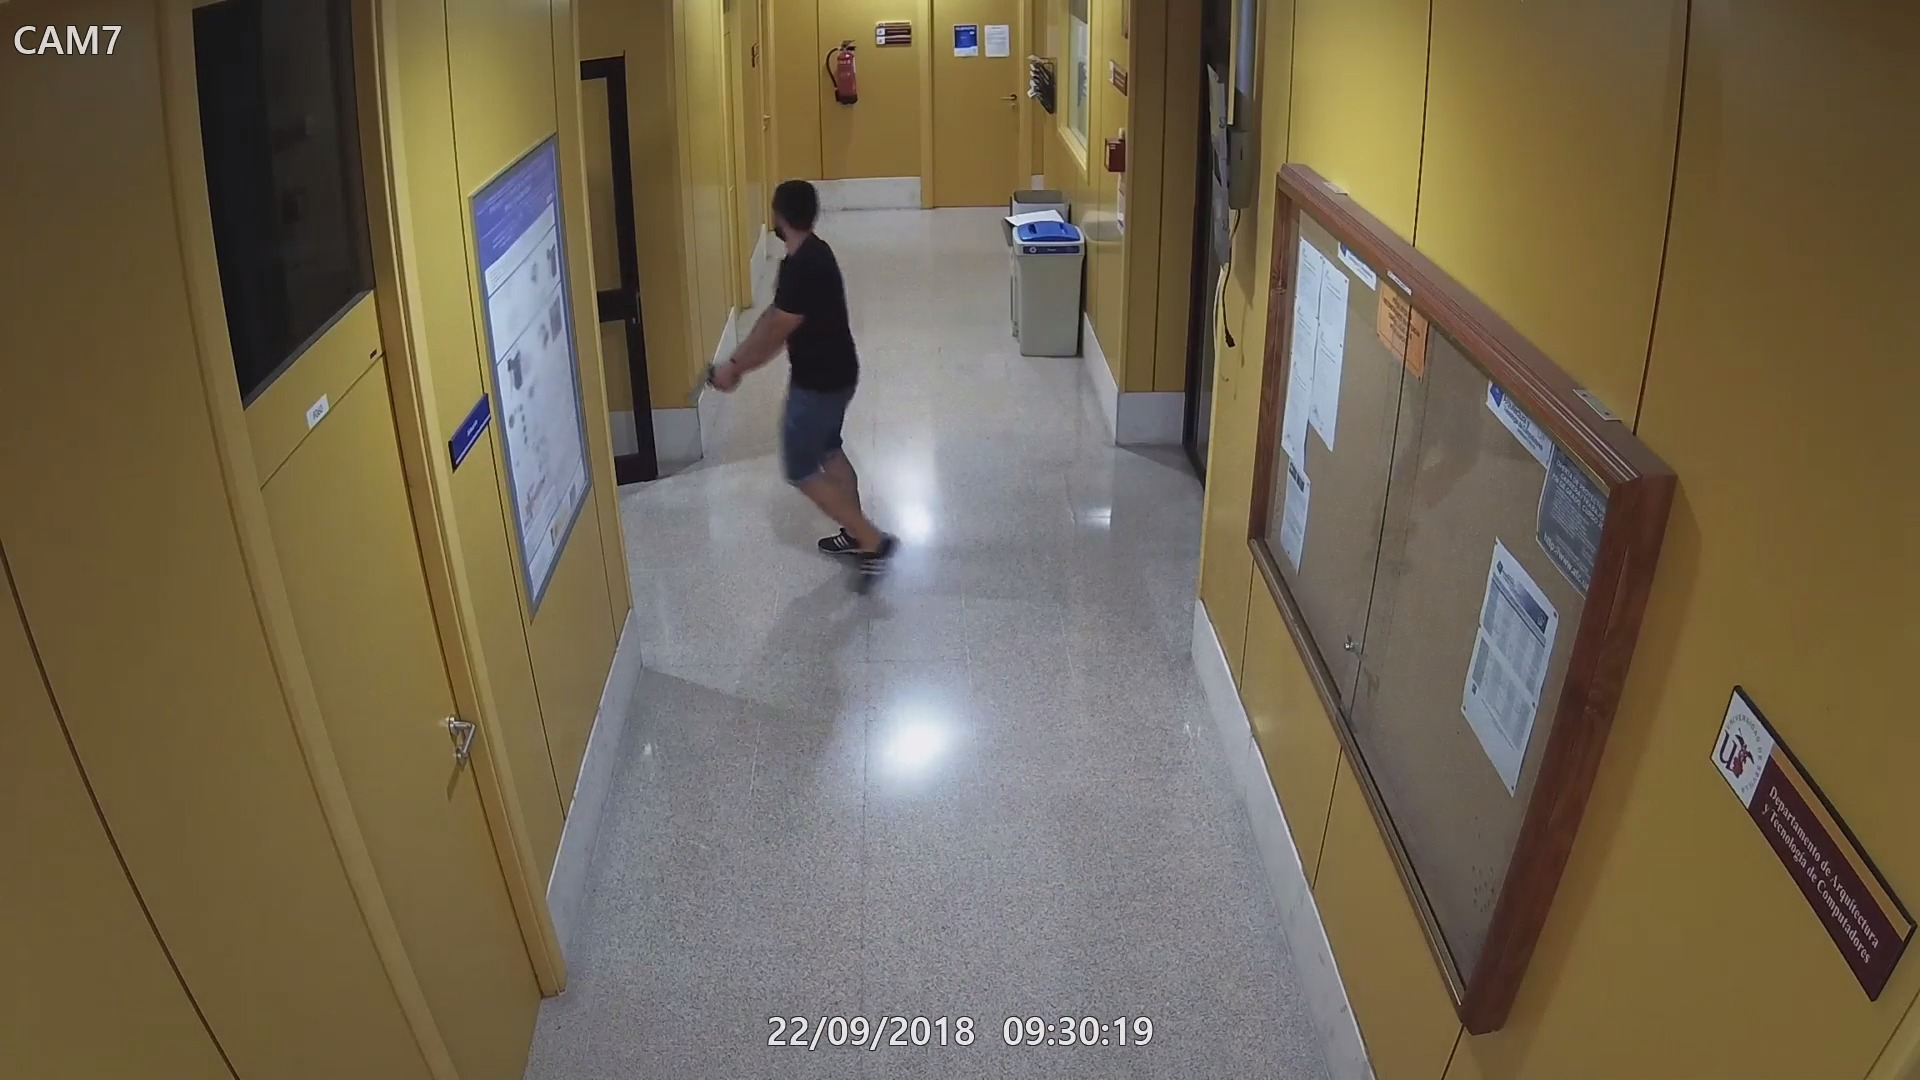Handgun: (684, 349, 737, 404)
